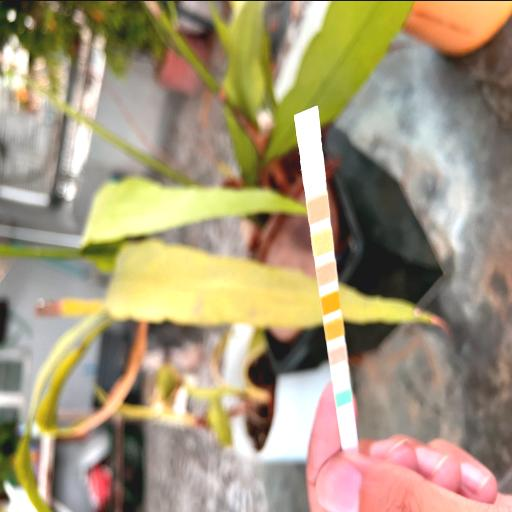Bilirubin: (334, 370, 348, 382)
Blood: (323, 296, 339, 308)
Glucose: (338, 392, 350, 402)
Ketone: (330, 350, 346, 360)
Leukocytes: (298, 116, 320, 136)
Nitrite: (304, 160, 324, 178)
Protein: (314, 236, 332, 250)
SpGravity: (326, 324, 342, 334)
Urobilinogen: (310, 201, 328, 215)
pH: (318, 267, 336, 280)
strip: (294, 105, 359, 450)
